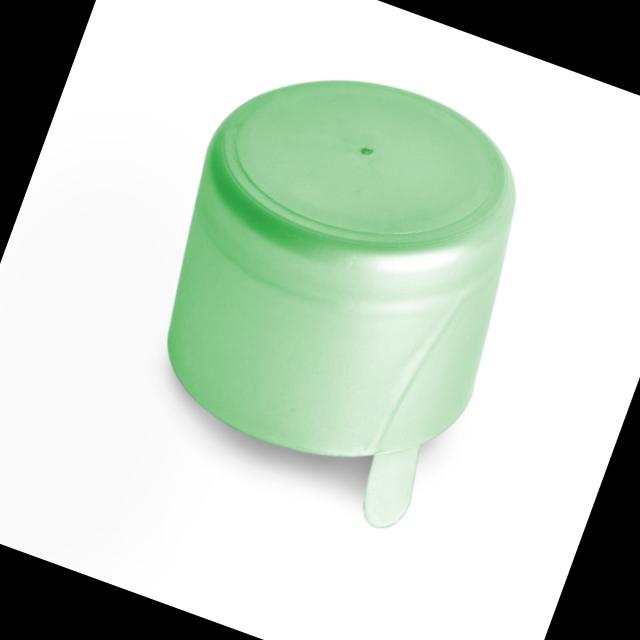TutupGalon: (104, 31, 564, 544)
